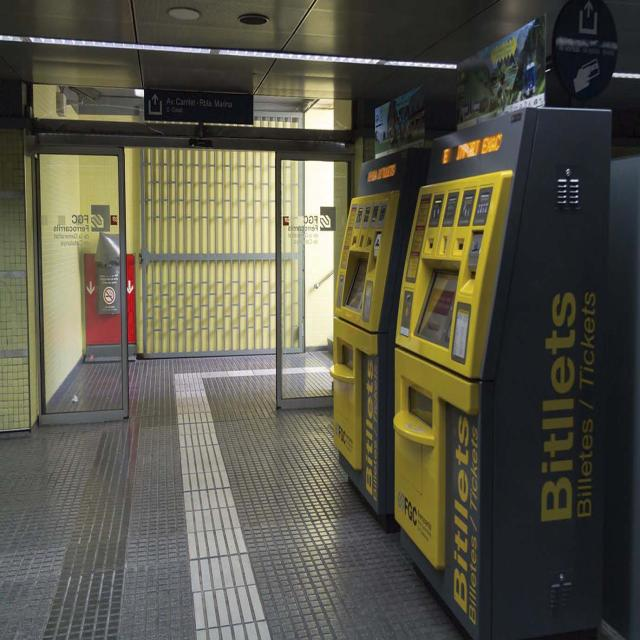tickets-maquina: (394, 109, 611, 638), (330, 150, 429, 529)
